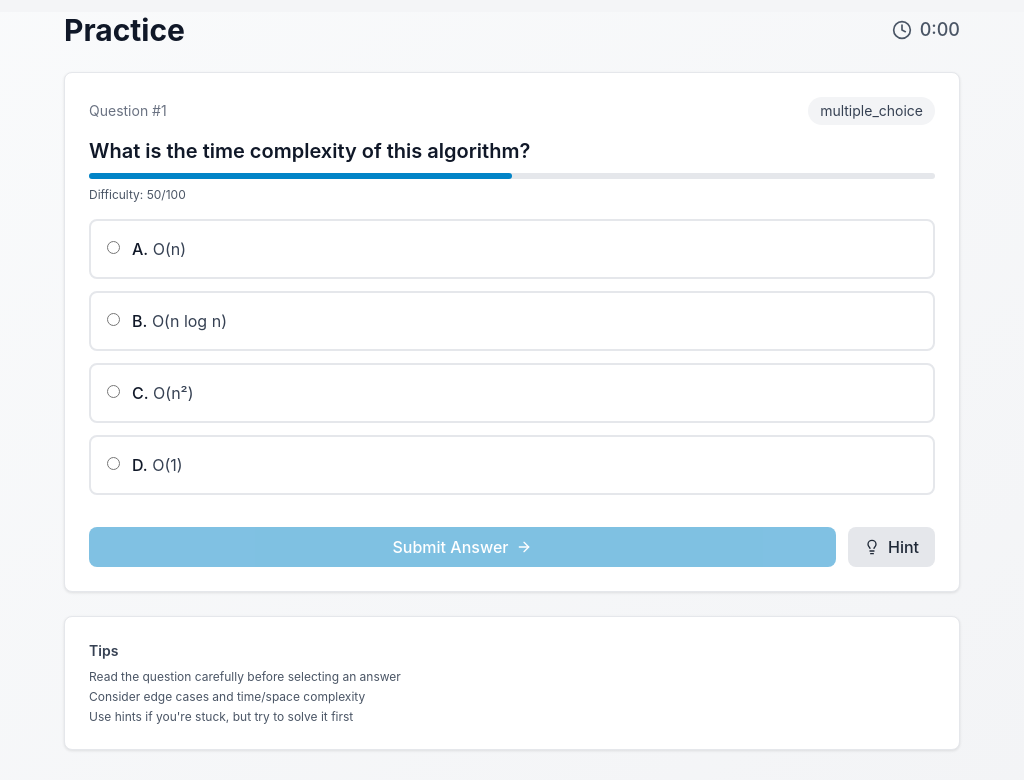
Scenario: Practice Component › should show incorrect result with correct answer
Expected: the heading "What is the time complexity of this algorithm?" is shown, 89,139 -> 530,163
// Select wrong answer
Click the radio button labelled "A. O(n)".
click(114, 248)  # box 107,241 -> 120,254
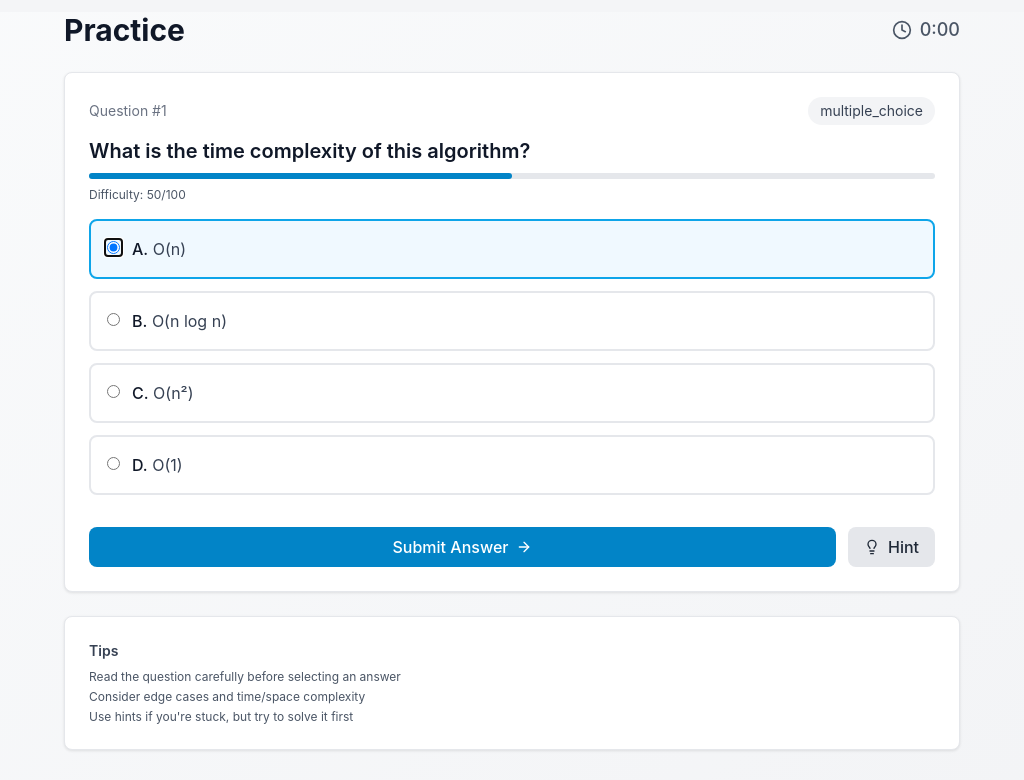
Click the button "Submit Answer".
click(462, 547)  # box 89,527 -> 836,567
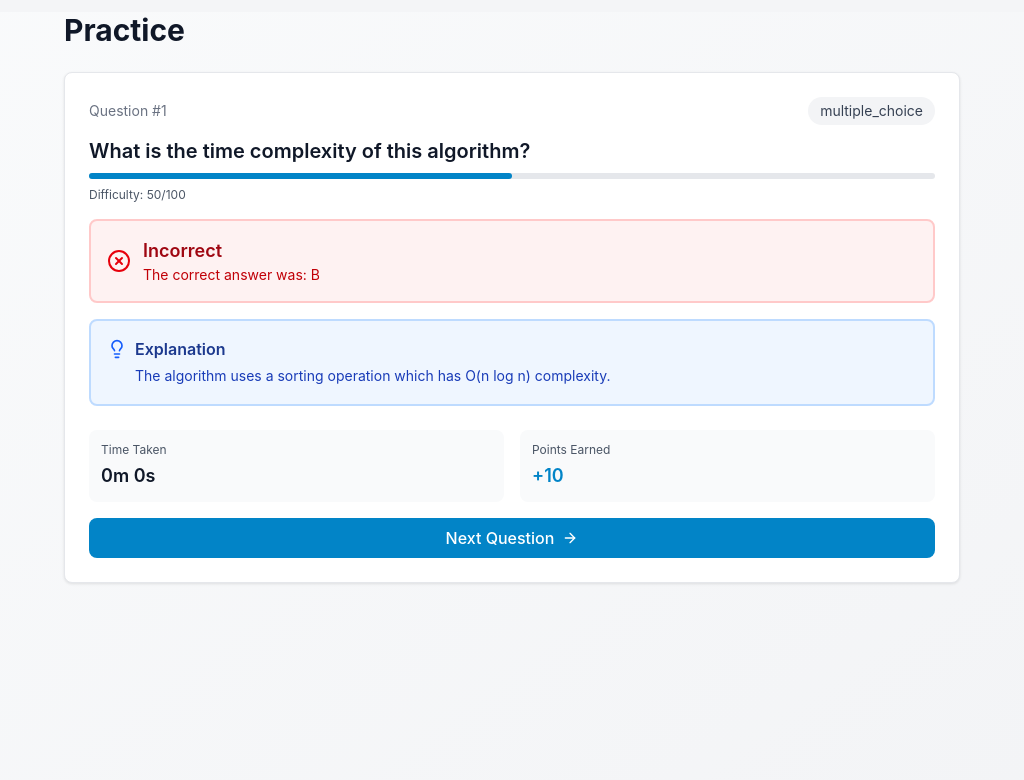
Now the text "Incorrect" is shown, box 143,240 -> 222,261
Now the text "The correct answer was: B" is shown, box 143,265 -> 320,285
